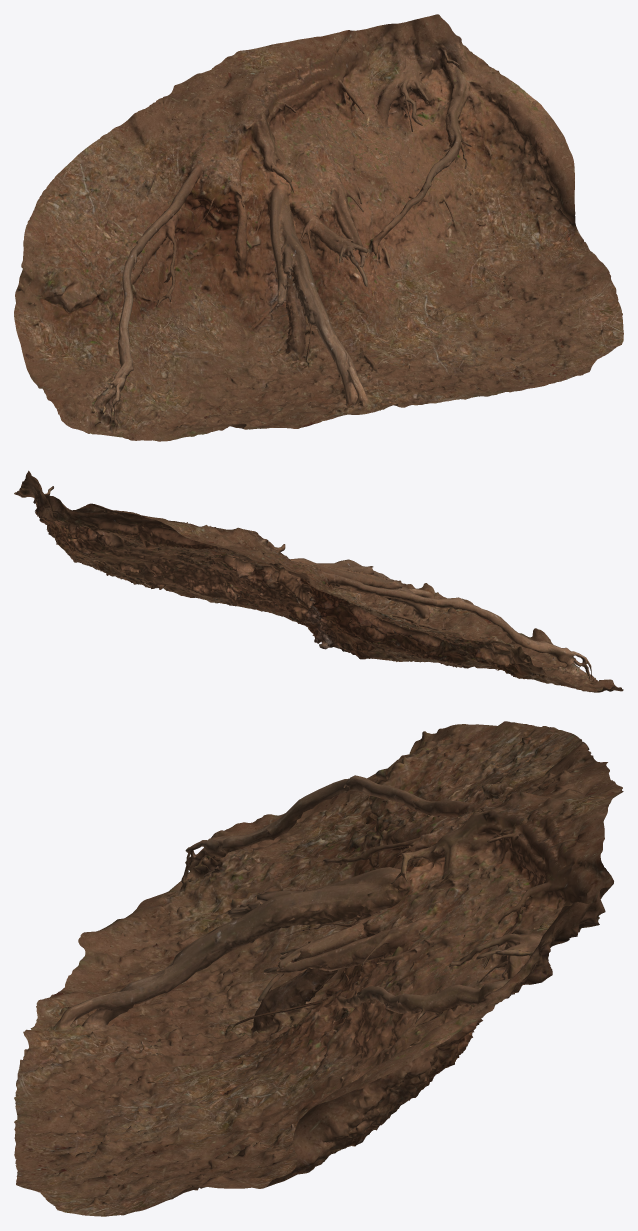
The model's file is root_cluster_01-web.glb.
The picture shows the model from 3 angles, top to bottom: view 1: azimuth 30°, elevation 25°; view 2: azimuth 150°, elevation 25°; view 3: azimuth 270°, elevation 25°; orthographic projection. The views are drawn at different scales.
Visible parts, largest first — view 1: root_cluster_01; view 2: root_cluster_01; view 3: root_cluster_01.
Boxes of the visible parts, x1=… form: root_cluster_01: x1=14, y1=14, x2=623, y2=441; root_cluster_01: x1=14, y1=470, x2=623, y2=692; root_cluster_01: x1=14, y1=721, x2=623, y2=1216.
Bounding box in the file's own units: 4.12 × 1.51 × 2.68.
1 material, 1 textured.
